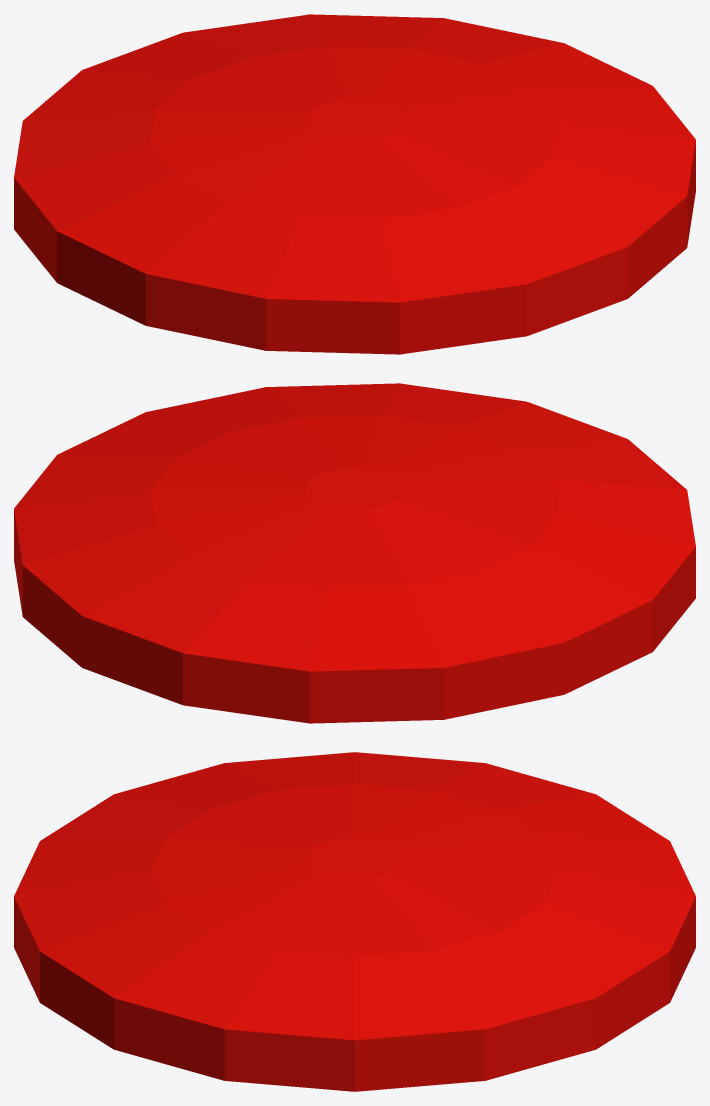
File: BadBacteria.fbx
3 views of the same model, one above another, from view 1: azimuth 30°, elevation 25°; view 2: azimuth 150°, elevation 25°; view 3: azimuth 270°, elevation 25° (orthographic).
Parts seen in each view (by area): view 1: BadBacteria; view 2: BadBacteria; view 3: BadBacteria.
Boxes of the visible parts, x1,y1,x2,y2 form: BadBacteria: [14, 14, 695, 354]; BadBacteria: [14, 383, 695, 723]; BadBacteria: [14, 752, 695, 1091].
Bounding box in the file's own units: 600 × 87.14 × 600.
